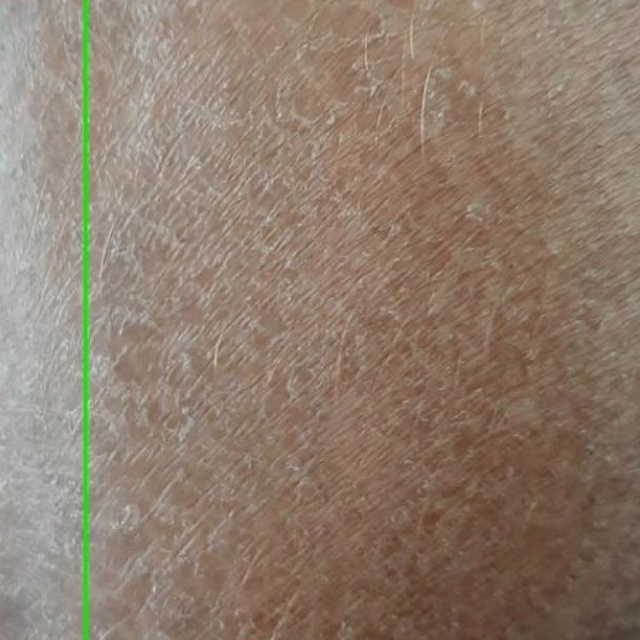Tinea Corporis: (0, 0, 85, 639)
